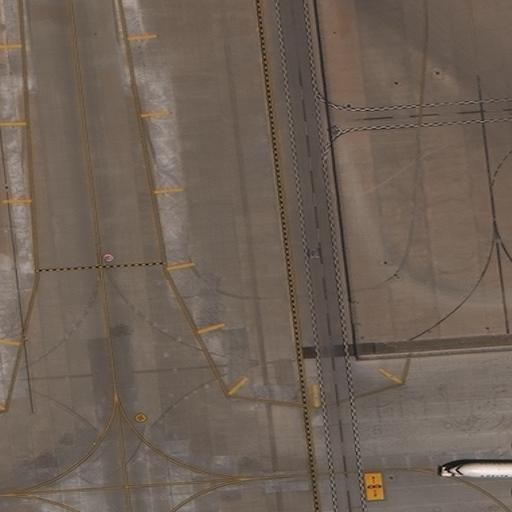Large Civil Transport: (446, 435, 512, 504)
